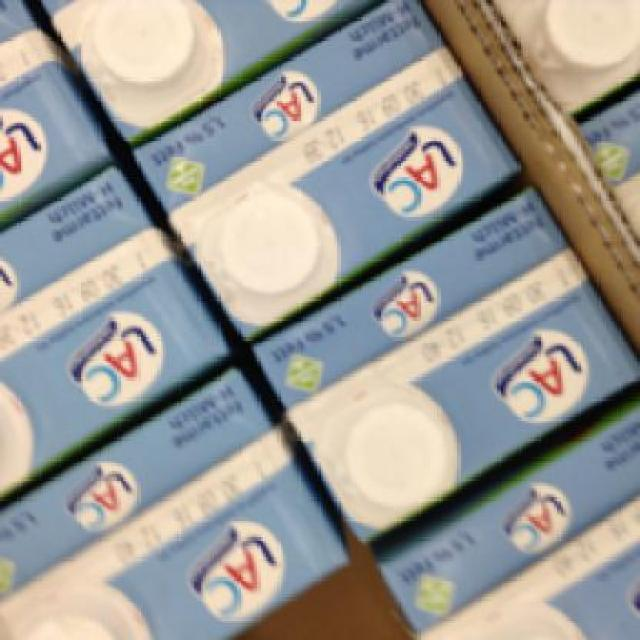Milk: (197, 192, 637, 538), (128, 11, 506, 302), (0, 374, 340, 637), (0, 162, 243, 478), (363, 388, 637, 628)
